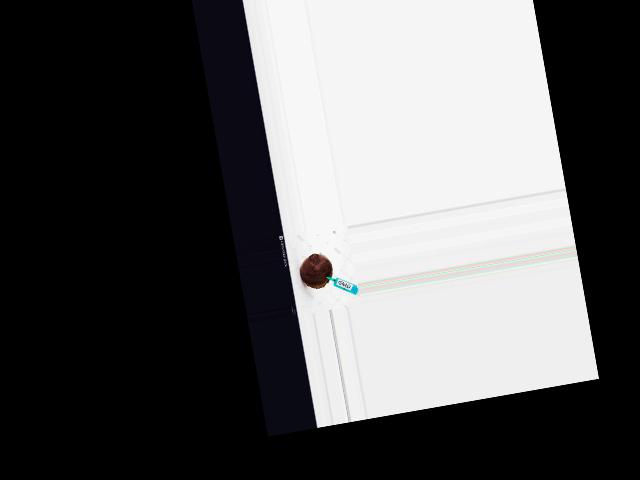beet: (296, 251, 335, 291)
